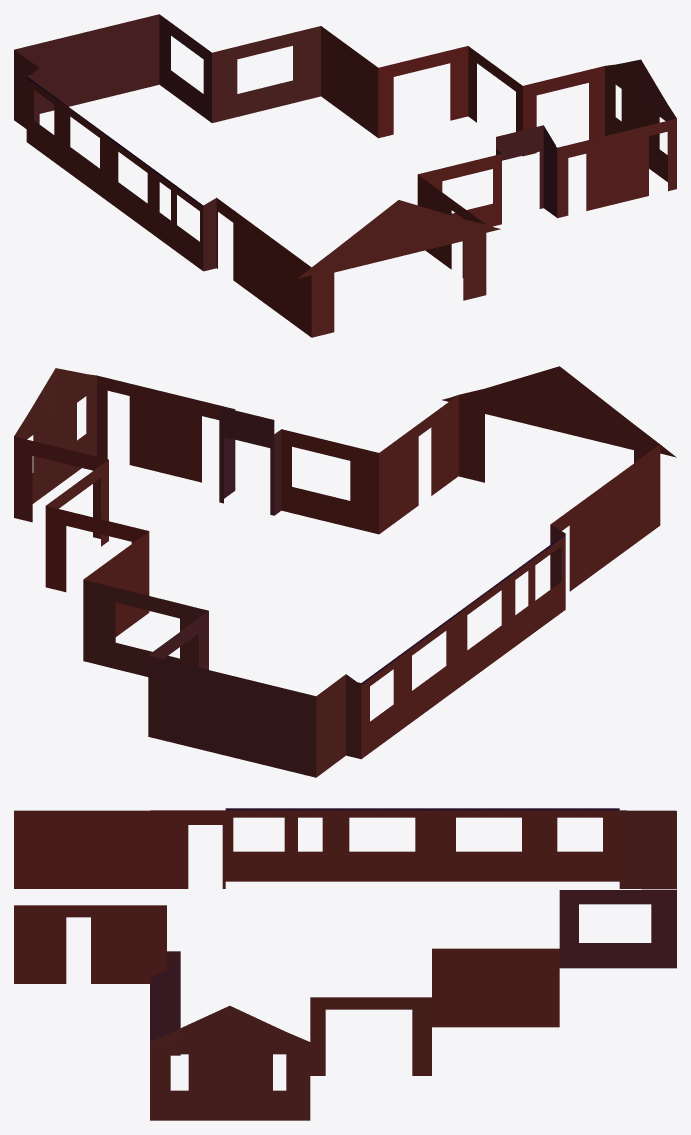
Rendered from OutsideGib.fbx.
The picture shows the model from 3 angles, top to bottom: view 1: azimuth 30°, elevation 25°; view 2: azimuth 150°, elevation 25°; view 3: azimuth 270°, elevation 25°; orthographic projection. The views are drawn at different scales.
Parts seen in each view (by area): view 1: OutsideGib; view 2: OutsideGib; view 3: OutsideGib.
Part boxes in pixels (left/top/right/bottom): OutsideGib: left=14, top=14, right=676, bottom=337; OutsideGib: left=14, top=366, right=676, bottom=777; OutsideGib: left=14, top=808, right=676, bottom=1120.
Bounding box in the file's own units: 1724 × 438 × 2016.
